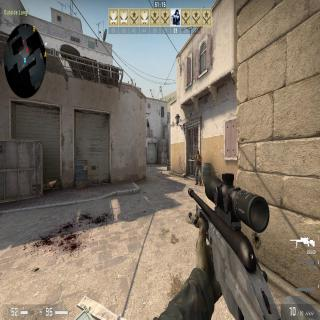T-Body: (195, 150, 203, 186)
T-Head: (197, 150, 200, 156)
